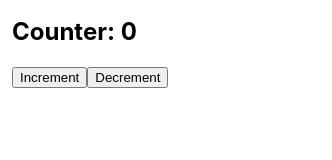
Test case: Counter component › decrements the count when the decrement button is clicked
What coordinates should you click on to do the following:
click the button "Decrement"
I would click on:
 (128, 77)
Its box is x1=87 y1=67 x2=168 y2=88.
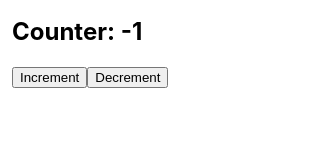
Now the heading "Counter: 0" reads "Counter: -1", box x1=12 y1=17 x2=142 y2=46
